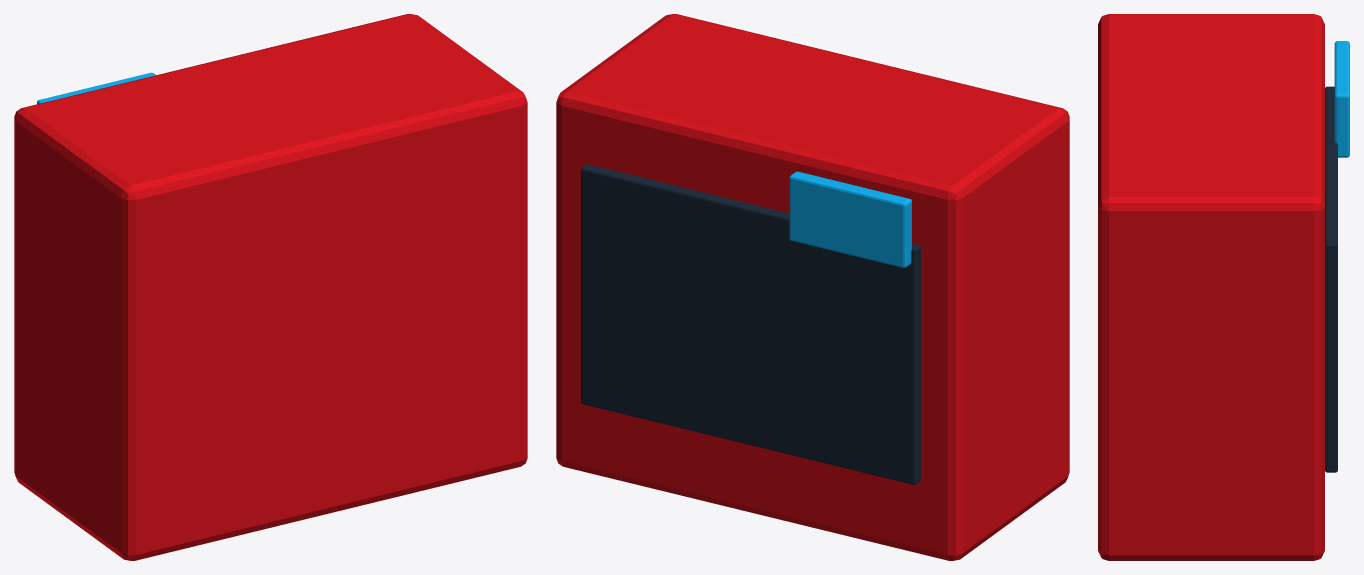
The model's file is solar_pit_tool_cabinet_lod1.obj.
The picture shows the model from 3 angles, left to right: view 1: azimuth 30°, elevation 25°; view 2: azimuth 150°, elevation 25°; view 3: azimuth 270°, elevation 25°; orthographic projection. The views are drawn at different scales.
Visible parts, largest first — view 1: race_cabinet_lod1_body_M_red; view 2: race_cabinet_lod1_body_M_red, race_cabinet_lod1_front_M_gunmetal, race_cabinet_lod1_display_M_cyan; view 3: race_cabinet_lod1_body_M_red, race_cabinet_lod1_front_M_gunmetal, race_cabinet_lod1_display_M_cyan.
Boxes of the visible parts, x1,y1,x2,y2 form: race_cabinet_lod1_body_M_red: (14, 14, 527, 560); race_cabinet_lod1_body_M_red: (556, 14, 1069, 560); race_cabinet_lod1_front_M_gunmetal: (581, 164, 920, 484); race_cabinet_lod1_display_M_cyan: (789, 171, 911, 267); race_cabinet_lod1_body_M_red: (1098, 14, 1324, 560); race_cabinet_lod1_front_M_gunmetal: (1325, 86, 1337, 472); race_cabinet_lod1_display_M_cyan: (1334, 41, 1349, 157).
Size of the model in its own units: 1.04 by 0.92 by 0.5775.
